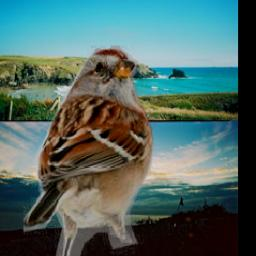Sparrow: (23, 46, 155, 256)
